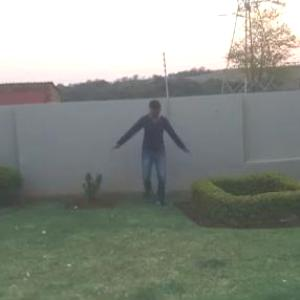land: (111, 97, 193, 212)
